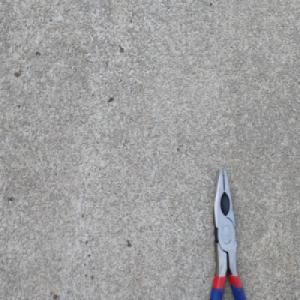Pliers: (207, 165, 248, 300)
